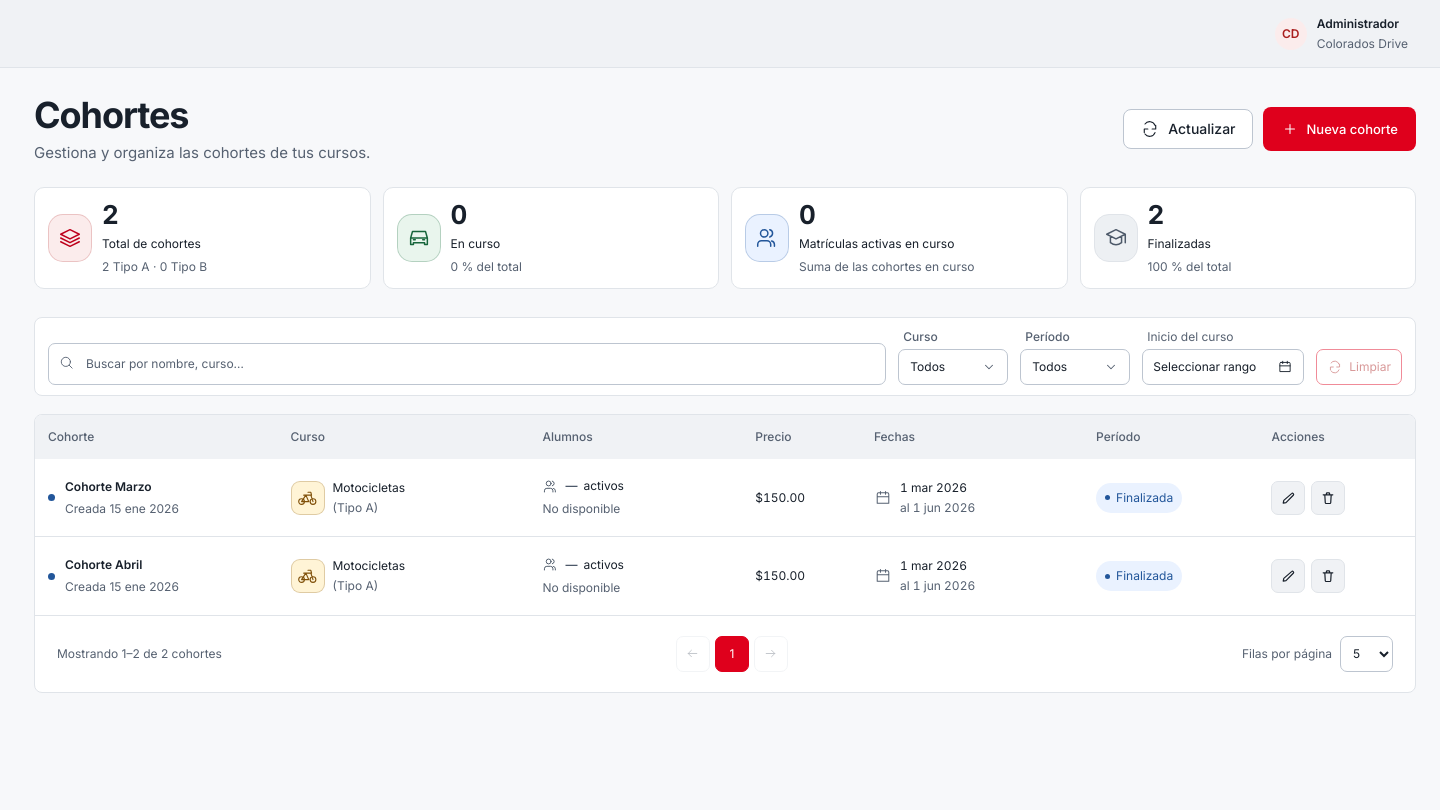
Test: CohortsPage › eliminar cohorte › tras eliminar, la cohorte desaparece del listado, se avisa y se recarga la lista
The image size is (1440, 810).
Click the button named "Eliminar Cohorte Marzo" at (1328, 498), box x1=1312 y1=481 x2=1346 y2=515
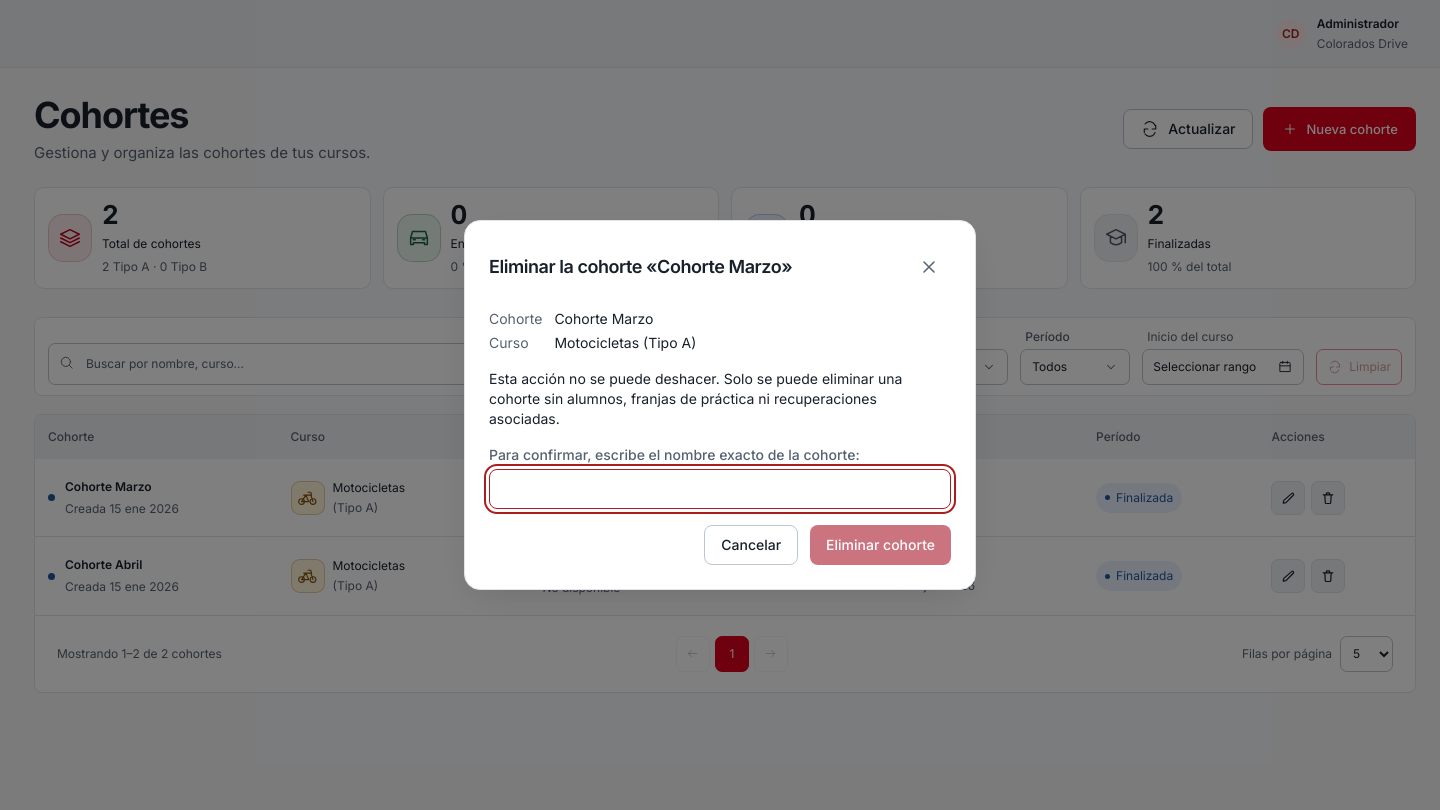
Type "Cohorte Marzo" into the field labelled "Para confirmar, escribe el nombre exacto de la cohorte:" at (720, 489), box x1=489 y1=469 x2=951 y2=509
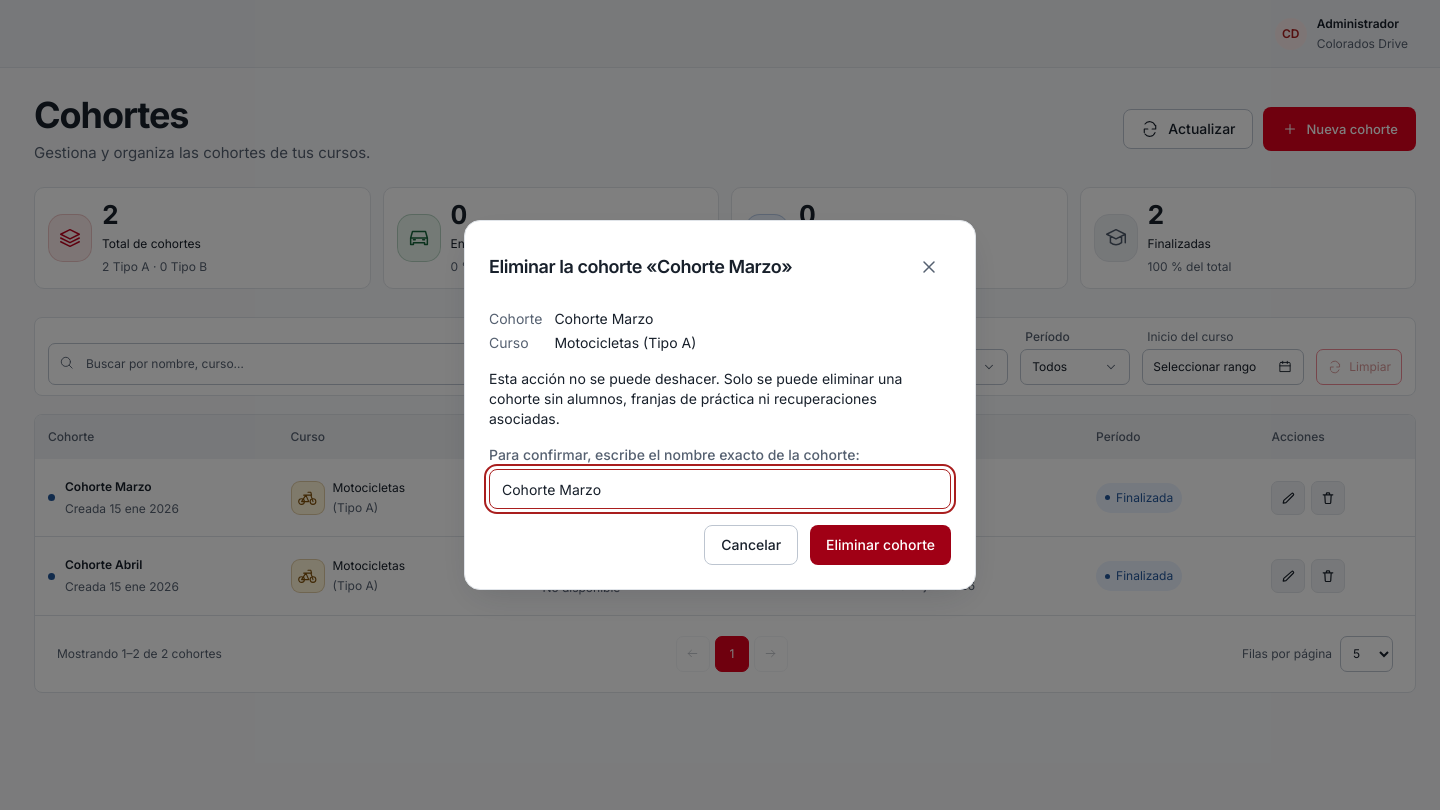
Click the button "Eliminar cohorte" at (881, 545), box x1=810 y1=525 x2=951 y2=565
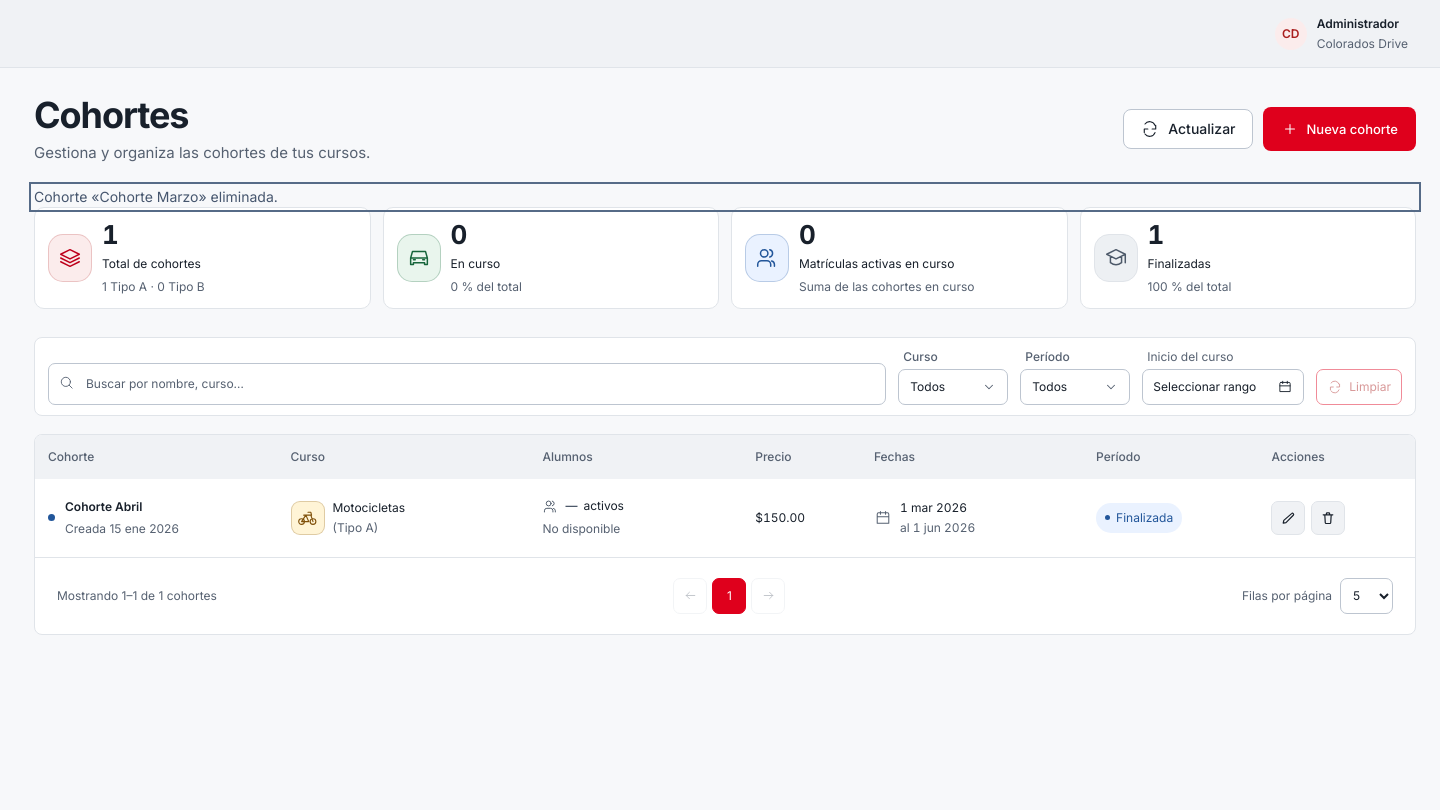
Expected: the text "Cohorte Abril" is shown, x1=65 y1=499 x2=142 y2=514
Now the message reads "Cohorte «Cohorte Marzo» eliminada.", box x1=34 y1=188 x2=278 y2=205
Now the dialog is gone
